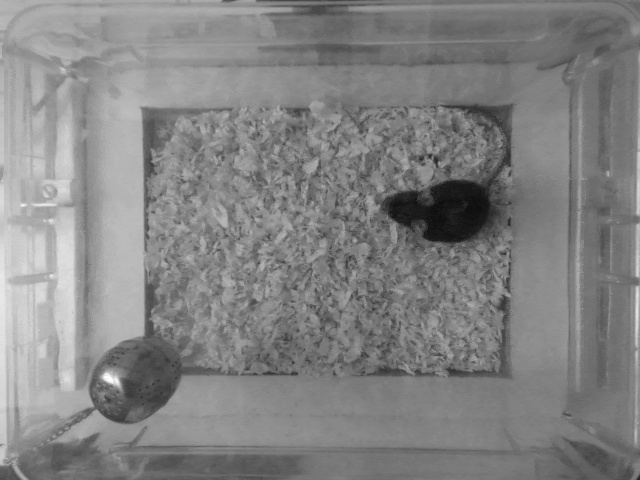mice: (379, 99, 513, 240)
